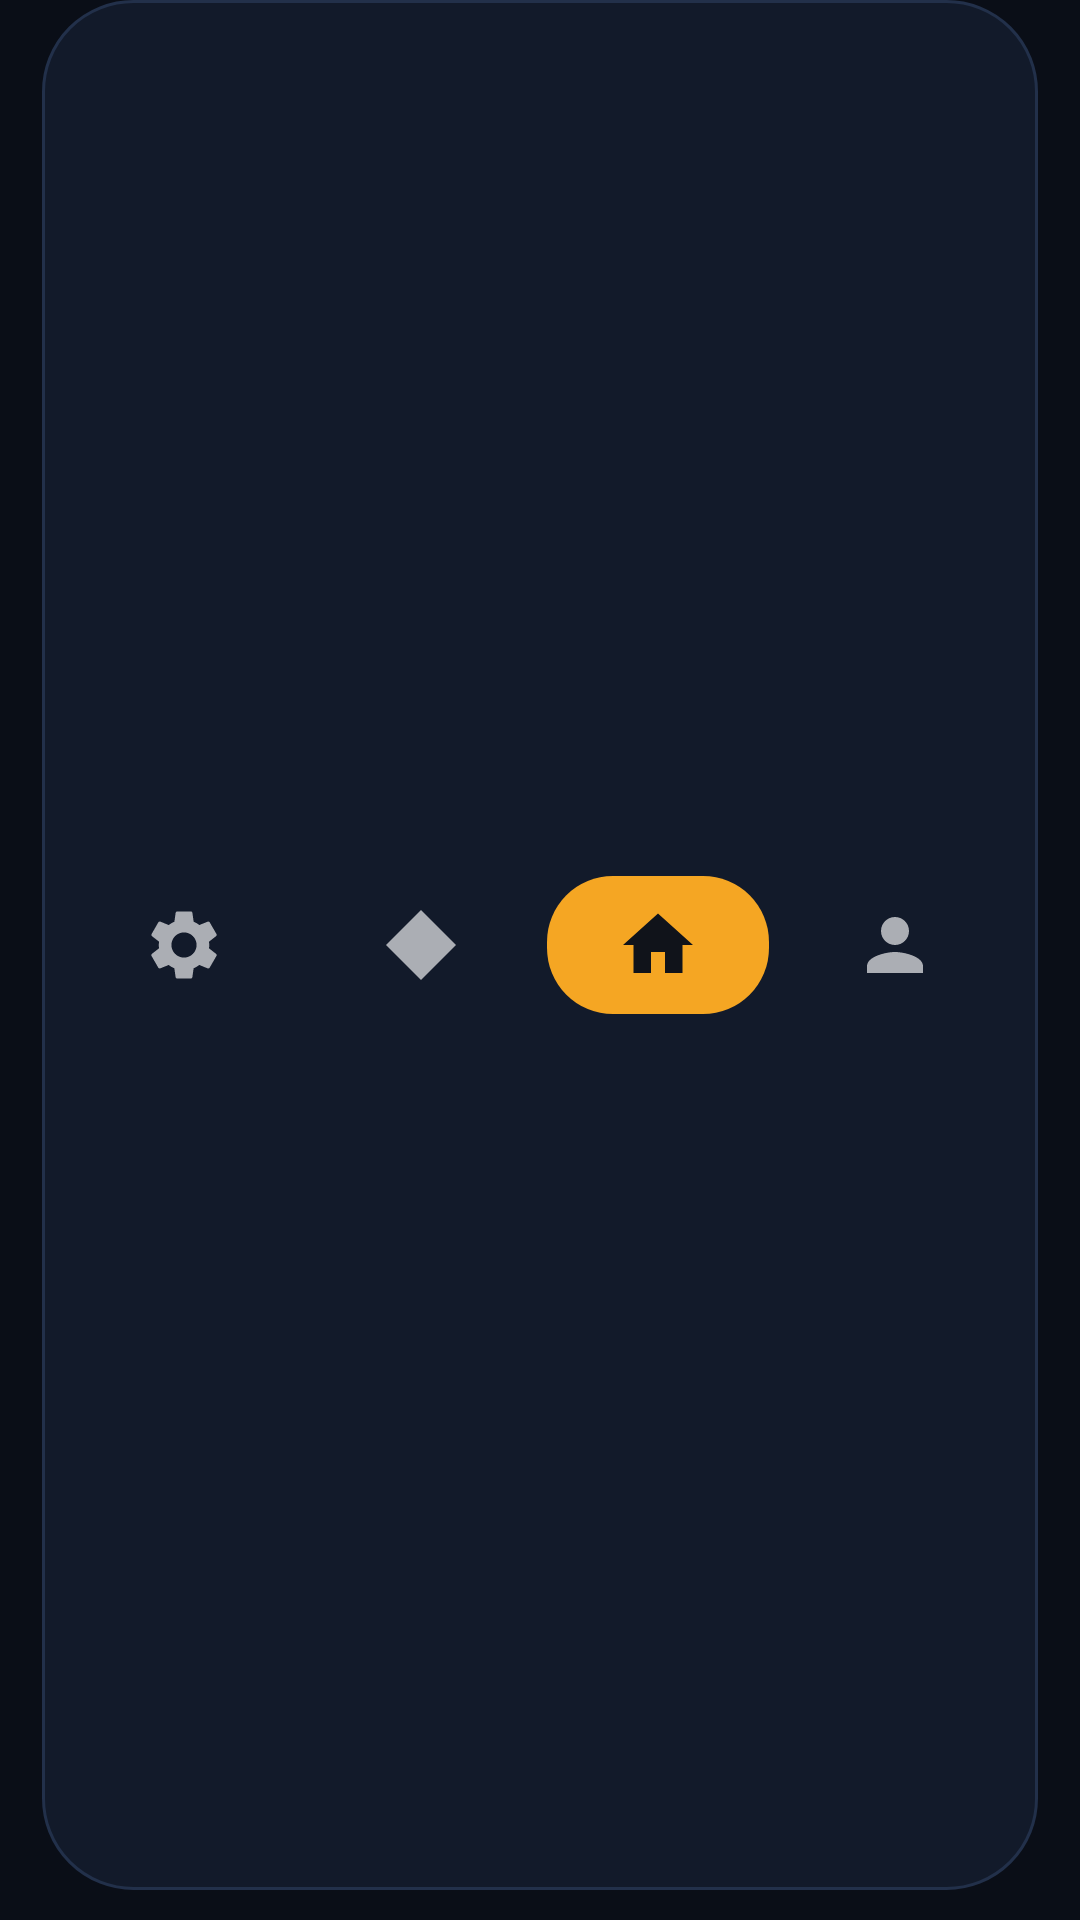

Point at icon controls on the screen. Image size 1080x1920, points as (x=x, y=y).
gear: (x=184, y=945)
home: (x=658, y=943)
person: (x=895, y=945)
